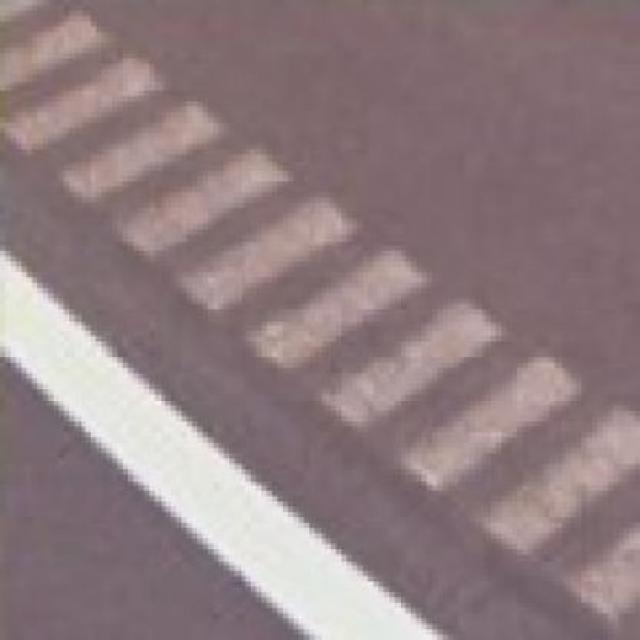crosswalk: (0, 0, 638, 625)
